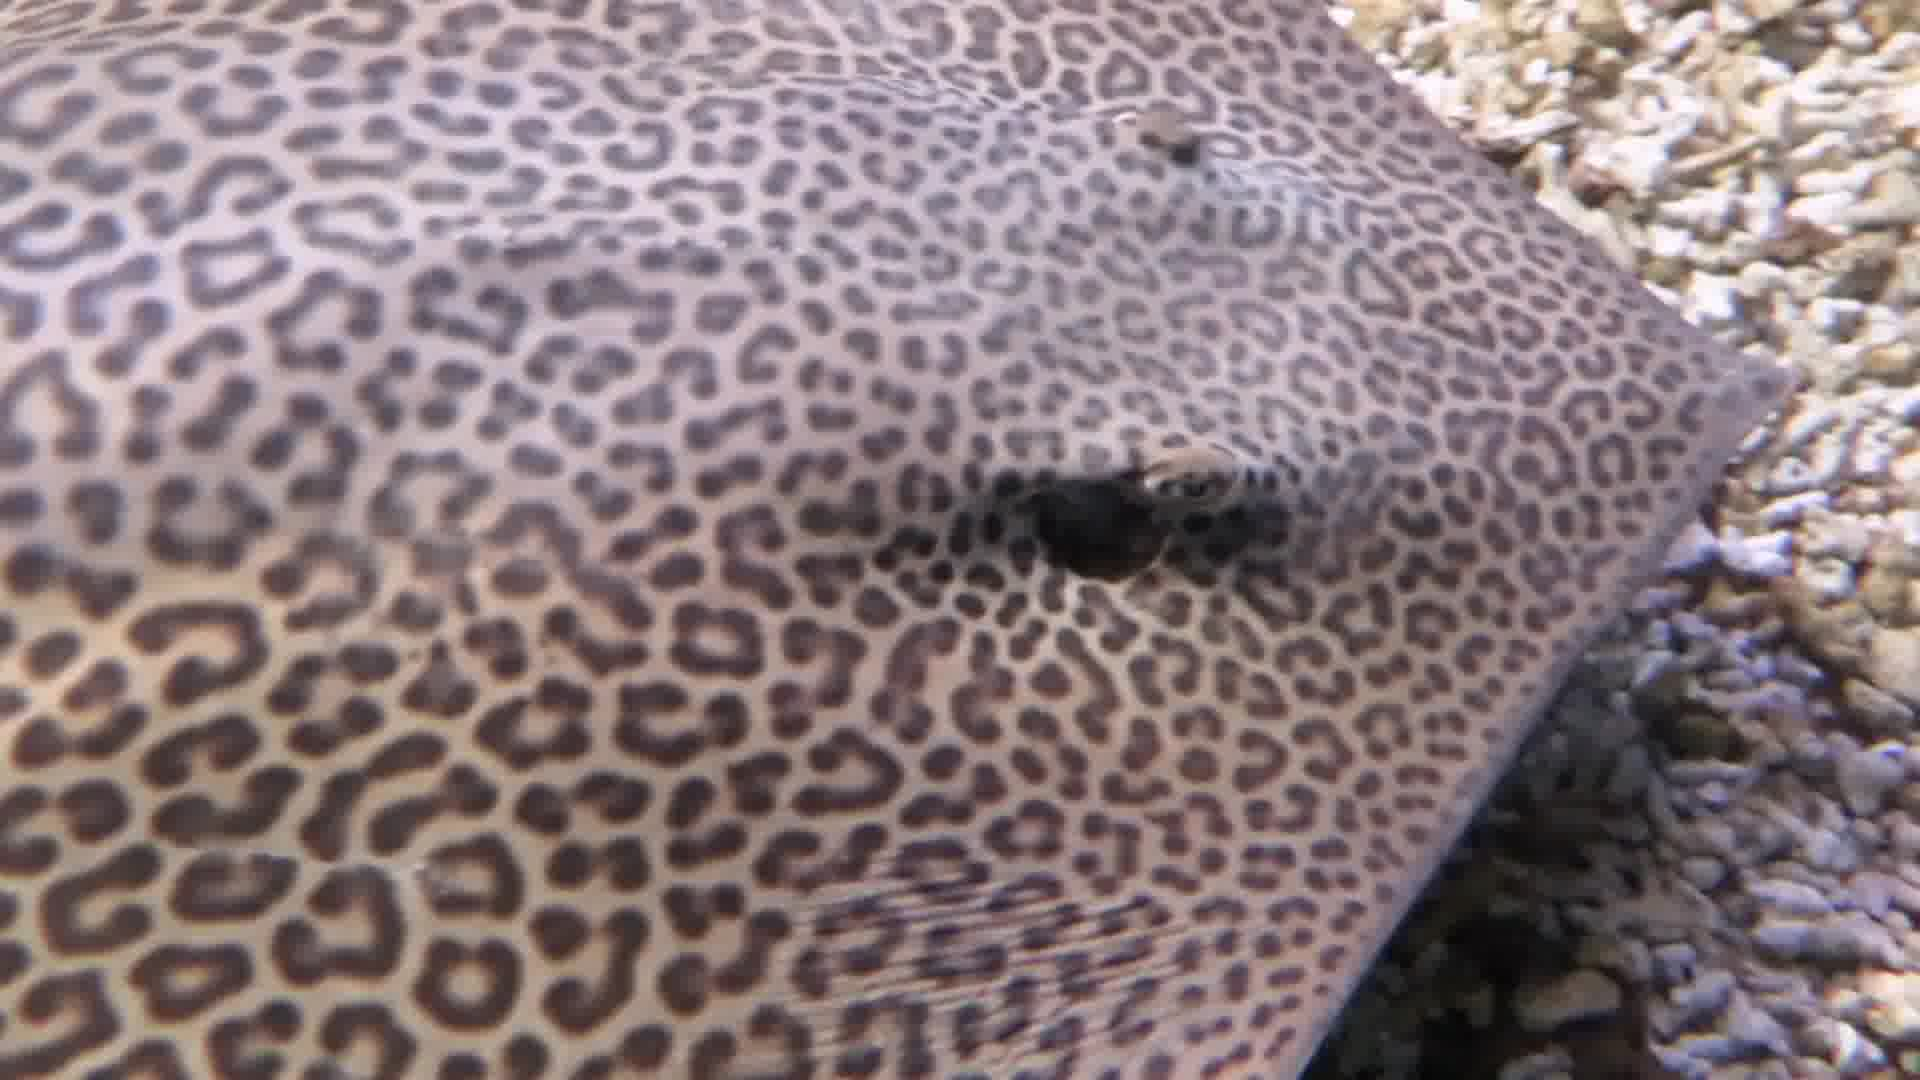Himantura uarnak: (1, 3, 1920, 1080)
